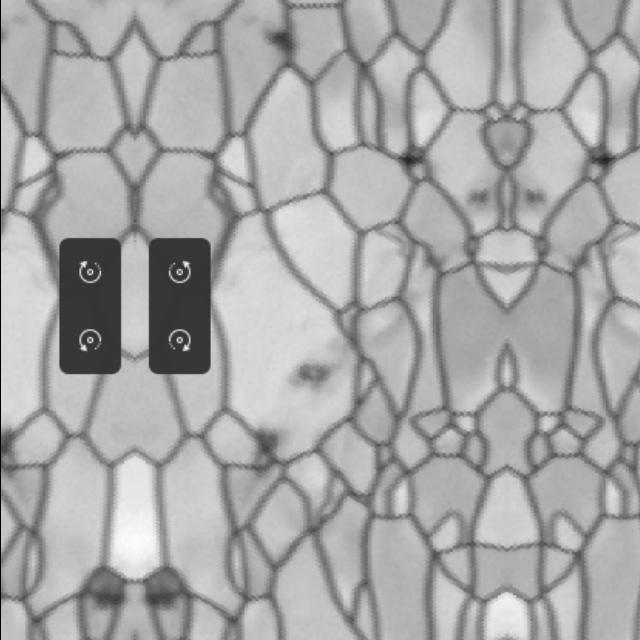good_void: (147, 572, 187, 613), (82, 572, 122, 613), (288, 354, 336, 388), (264, 24, 298, 59), (253, 427, 285, 461), (399, 142, 430, 167), (584, 142, 615, 167), (466, 184, 491, 208), (523, 184, 548, 208), (0, 428, 16, 461), (241, 12, 261, 28), (8, 12, 28, 28)
